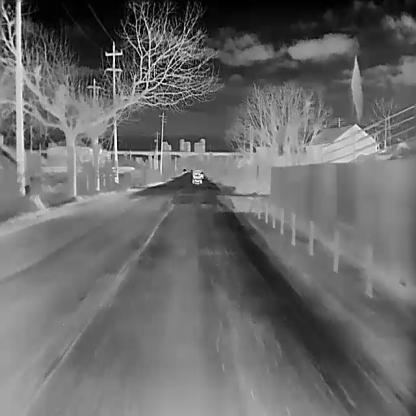car: (192, 167, 203, 183), (182, 168, 186, 172)
